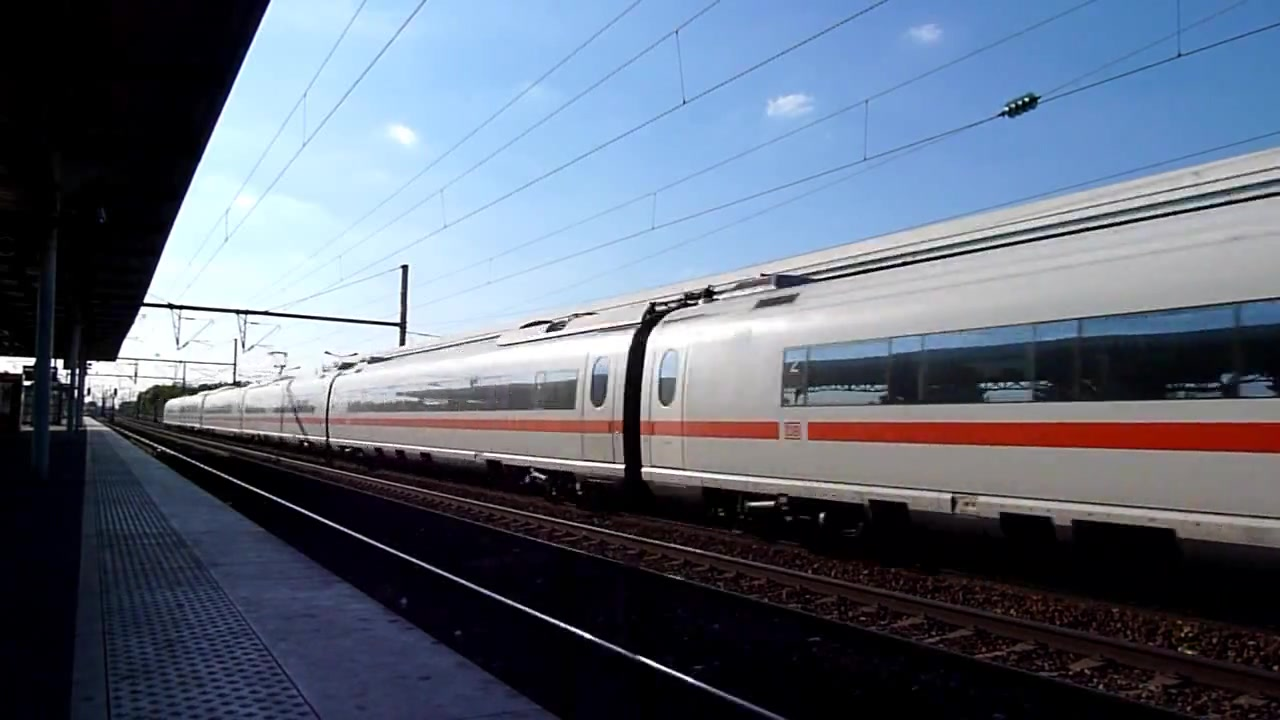train: (158, 149, 1280, 578)
